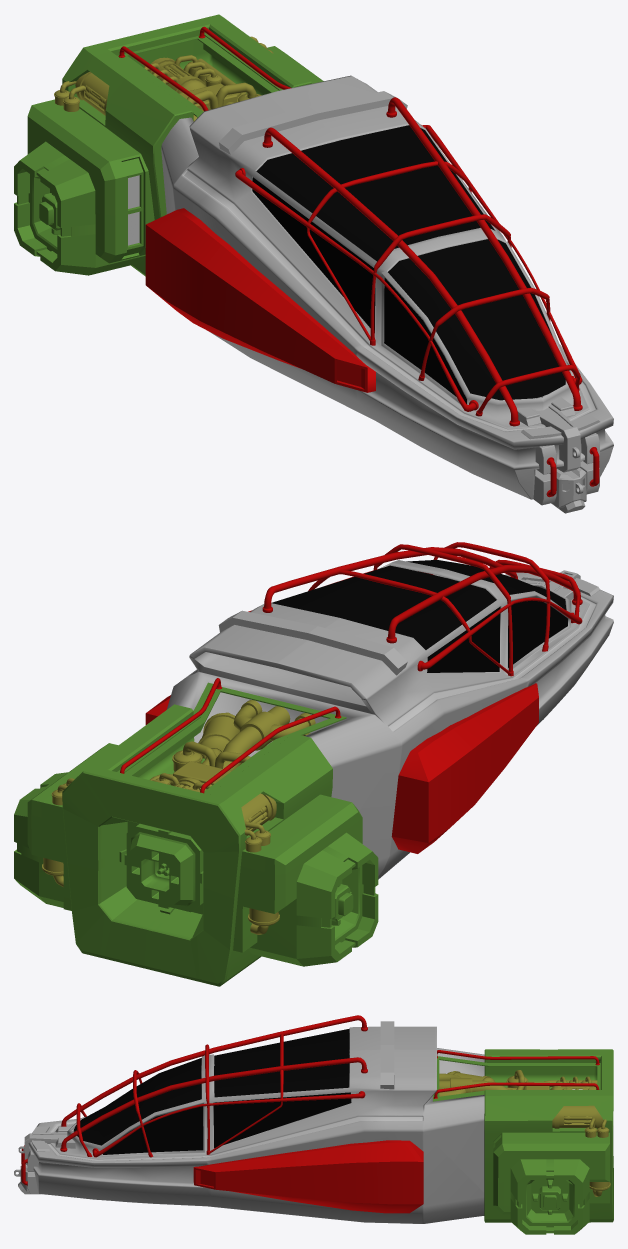
File: The Belt Core 2.fbx
3 views of the same model, one above another, from view 1: azimuth 30°, elevation 25°; view 2: azimuth 150°, elevation 25°; view 3: azimuth 270°, elevation 25° (orthographic). The views are drawn at different scales.
Visible parts, largest first — view 1: Ship_Core; view 2: Ship_Core; view 3: Ship_Core.
Part boxes in pixels (x1,y1,x2,y2): Ship_Core: [14, 14, 613, 513]; Ship_Core: [14, 542, 613, 986]; Ship_Core: [14, 1015, 613, 1234].
Size of the model in its own units: 1268 by 893 by 2987.
